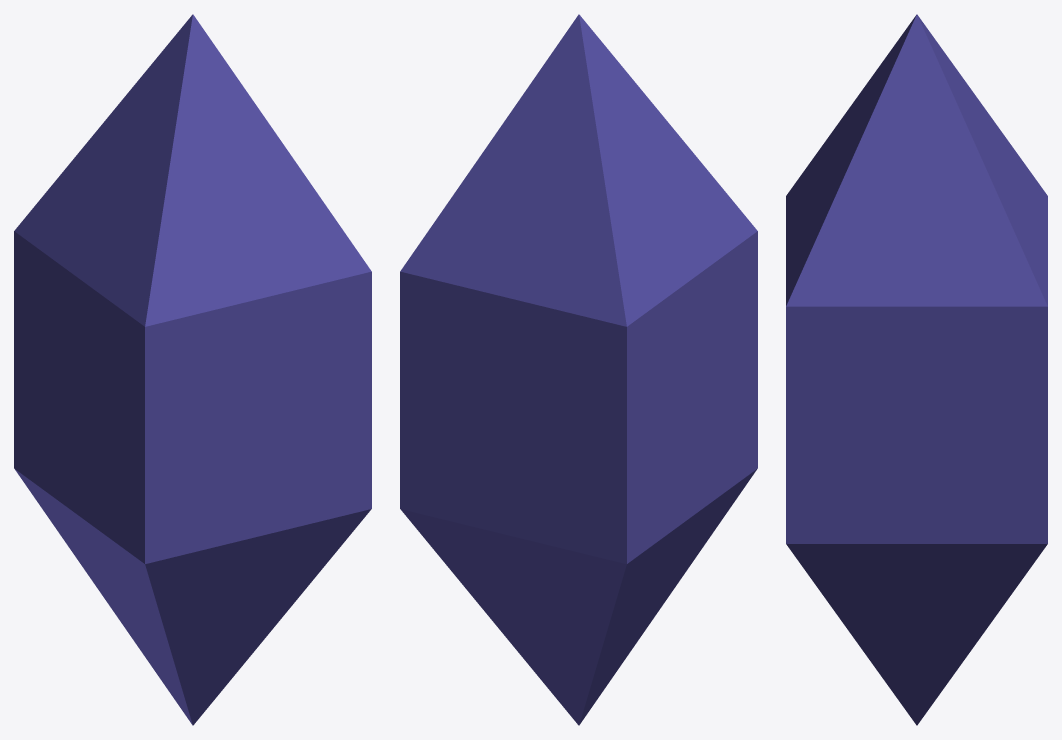
The model's file is propCrystal01.fbx.
3 renders of one model, left to right at view 1: azimuth 30°, elevation 25°; view 2: azimuth 150°, elevation 25°; view 3: azimuth 270°, elevation 25°, orthographic.
Visible parts, largest first — view 1: pCube1; view 2: pCube1; view 3: pCube1.
Part boxes in pixels (bbox=[...]): pCube1: bbox=[14, 14, 371, 725]; pCube1: bbox=[400, 14, 757, 725]; pCube1: bbox=[786, 14, 1047, 725].
Size of the model in its own units: 1 by 3 by 1.
